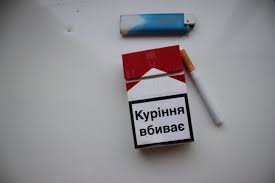marlboro: (124, 51, 188, 147)
